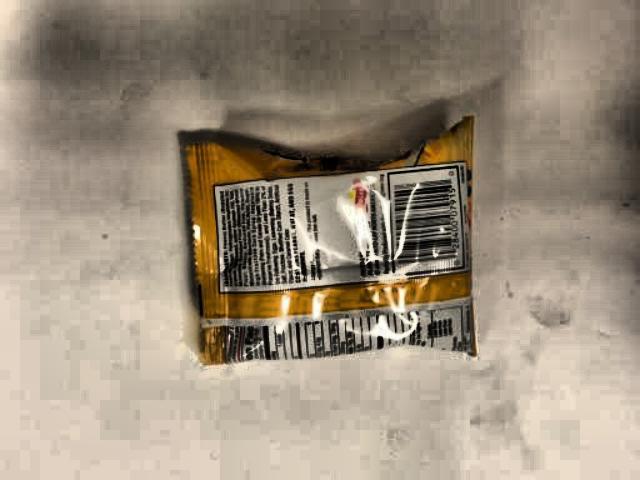Plastic: (133, 121, 541, 375)
